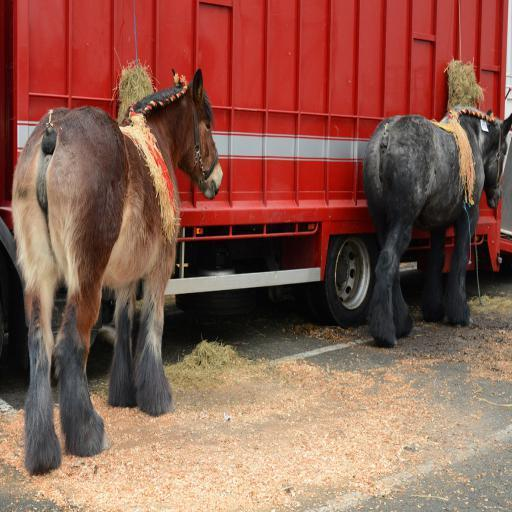horse: (10, 68, 222, 477), (361, 105, 512, 348)
